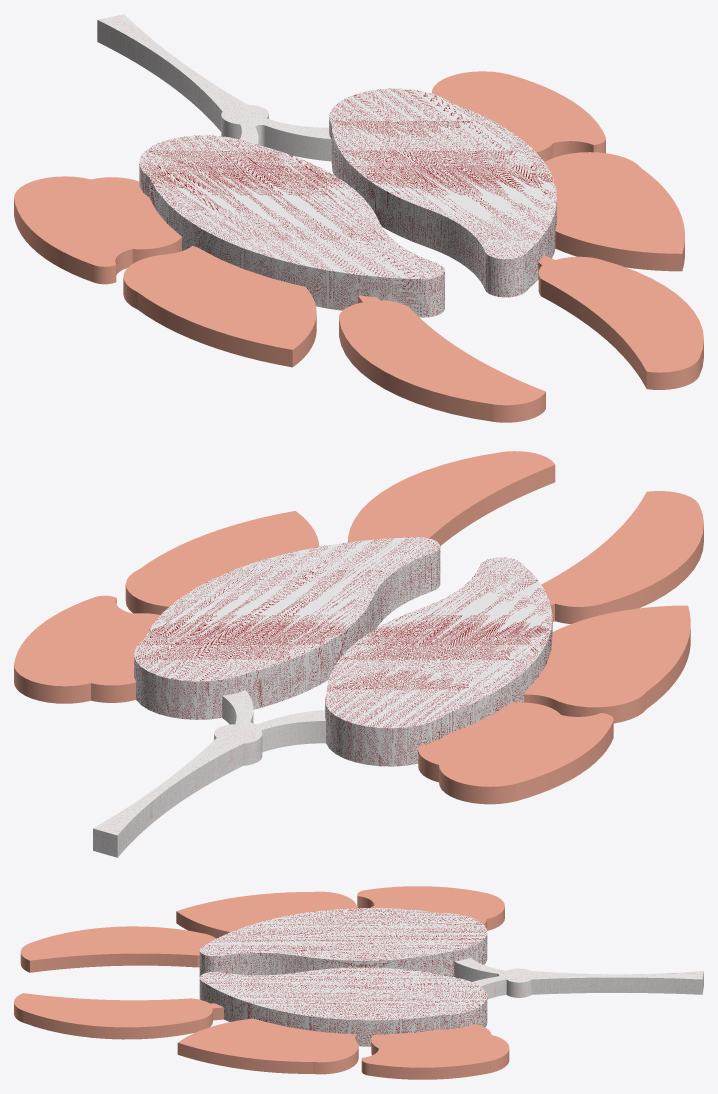
File: paru-paru burung.dae
The picture shows the model from 3 angles, top to bottom: view 1: azimuth 30°, elevation 25°; view 2: azimuth 150°, elevation 25°; view 3: azimuth 270°, elevation 25°; orthographic projection. The views are drawn at different scales.
Visible parts, largest first — view 1: group_0 (×9); view 2: group_0 (×9); view 3: group_0 (×9).
Boxes of the visible parts, x1,y1,x2,y2 form: group_0 (×9): (14, 14, 703, 422); group_0 (×9): (14, 451, 703, 857); group_0 (×9): (14, 886, 703, 1079).
Bounding box in the file's own units: 291 × 467 × 19.69.
